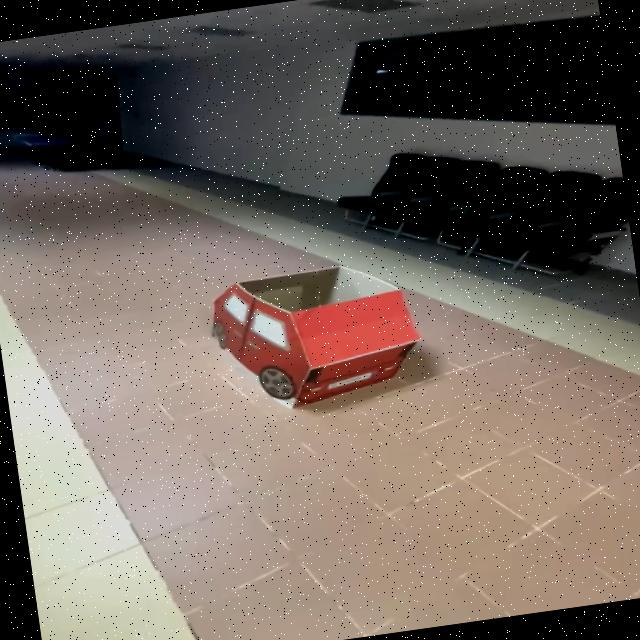red_car: (184, 245, 450, 434)
